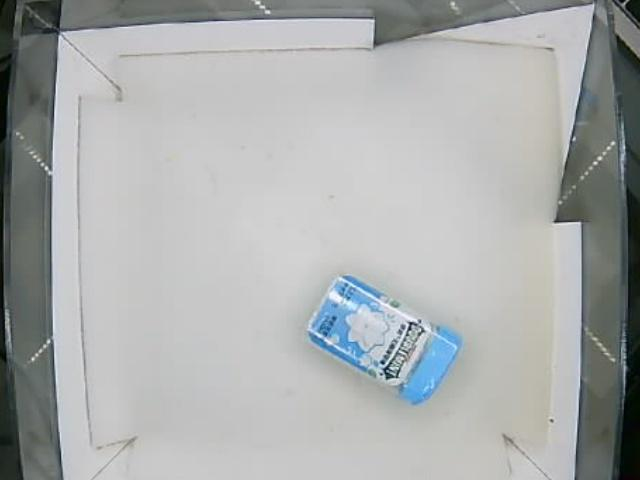Bottle: (304, 278, 466, 407)
